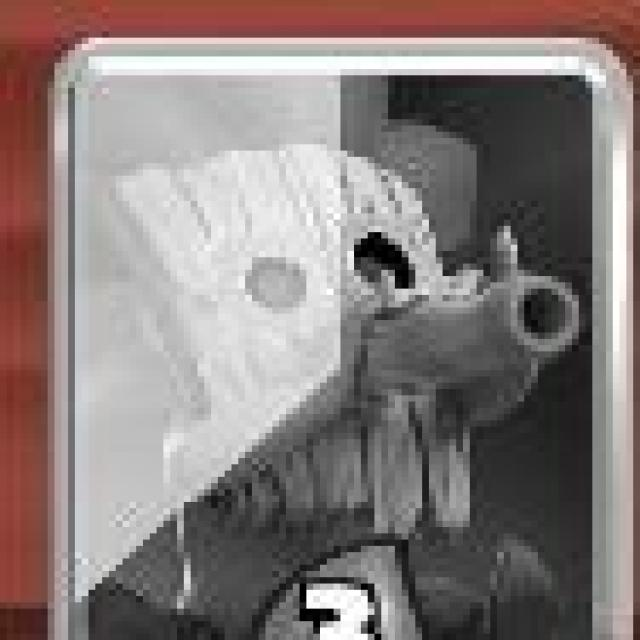Dart_Goblin: (45, 31, 630, 640)
